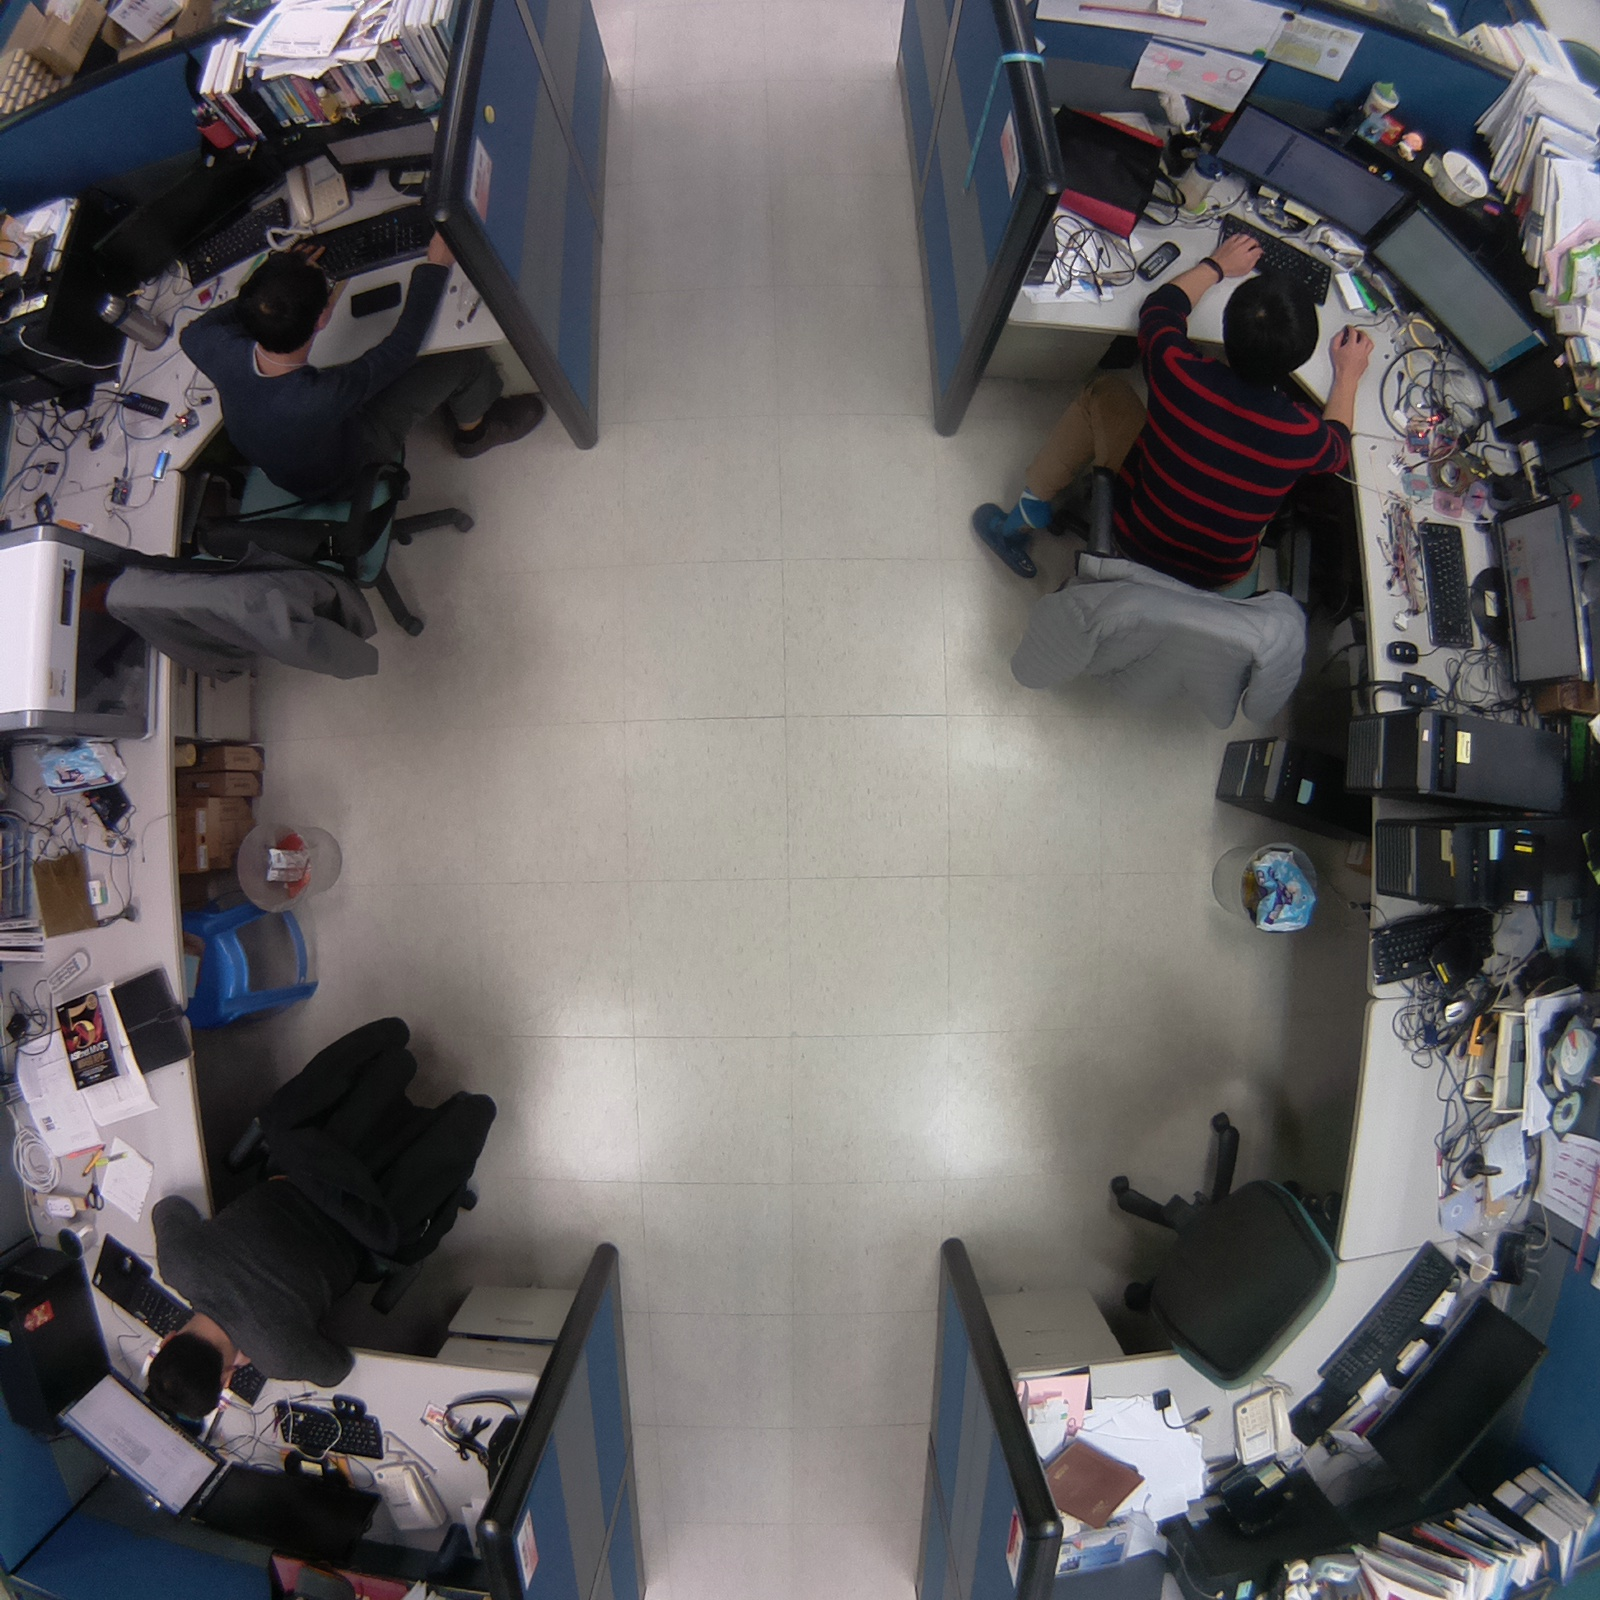chair: (1096, 1088, 1350, 1399)
head: (1212, 268, 1327, 378), (232, 246, 336, 348), (138, 1327, 236, 1427)
sitting: (950, 229, 1377, 740), (96, 247, 553, 691), (121, 991, 519, 1424)
